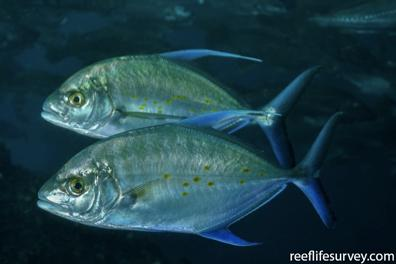Carangidae -Jacks-: (34, 100, 347, 249), (32, 37, 315, 178)
